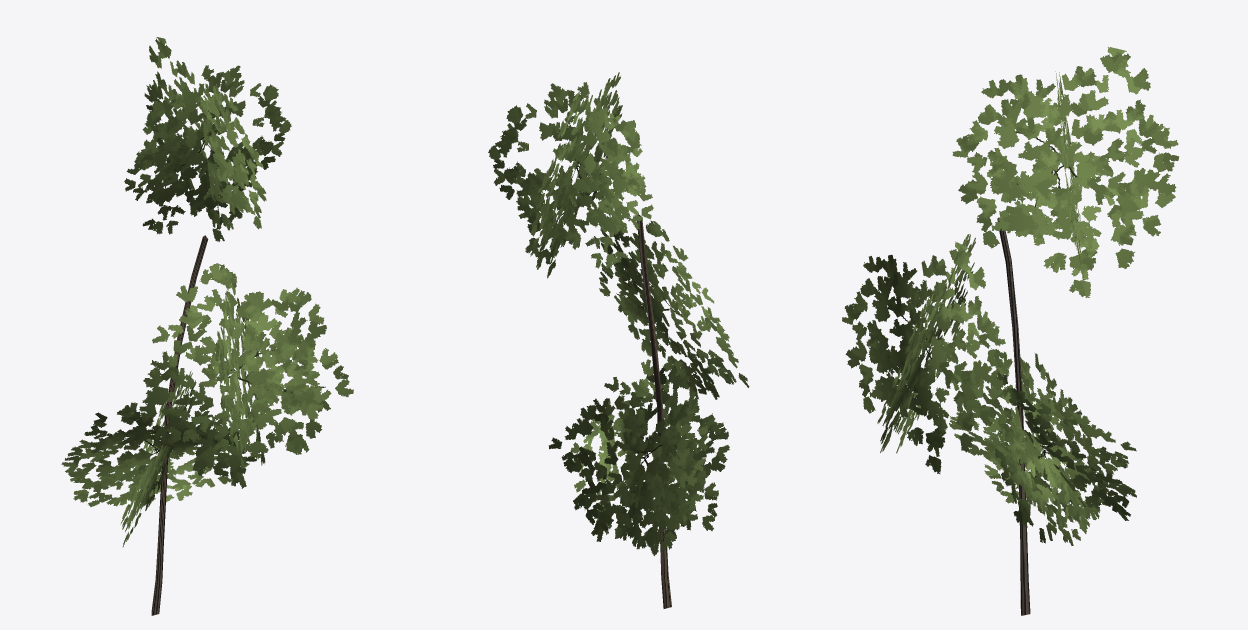
The model's file is seedling-c.lod1.glb.
3 views of the same model, side by side, from view 1: azimuth 30°, elevation 25°; view 2: azimuth 150°, elevation 25°; view 3: azimuth 270°, elevation 25° (orthographic). The views are drawn at different scales.
Parts seen in each view (by area): view 1: foliage, bark; view 2: foliage, bark; view 3: foliage, bark.
Part boxes in pixels (x1,y1,x2,y2): foliage: (61,37,353,547); bark: (151,235,208,615); foliage: (488,72,749,555); bark: (637,214,671,608); foliage: (842,47,1178,545); bark: (997,217,1030,615).
Size of the model in its own units: 0.2062 by 0.35 by 0.2128.
Materials: 2 (2 with a texture image).
